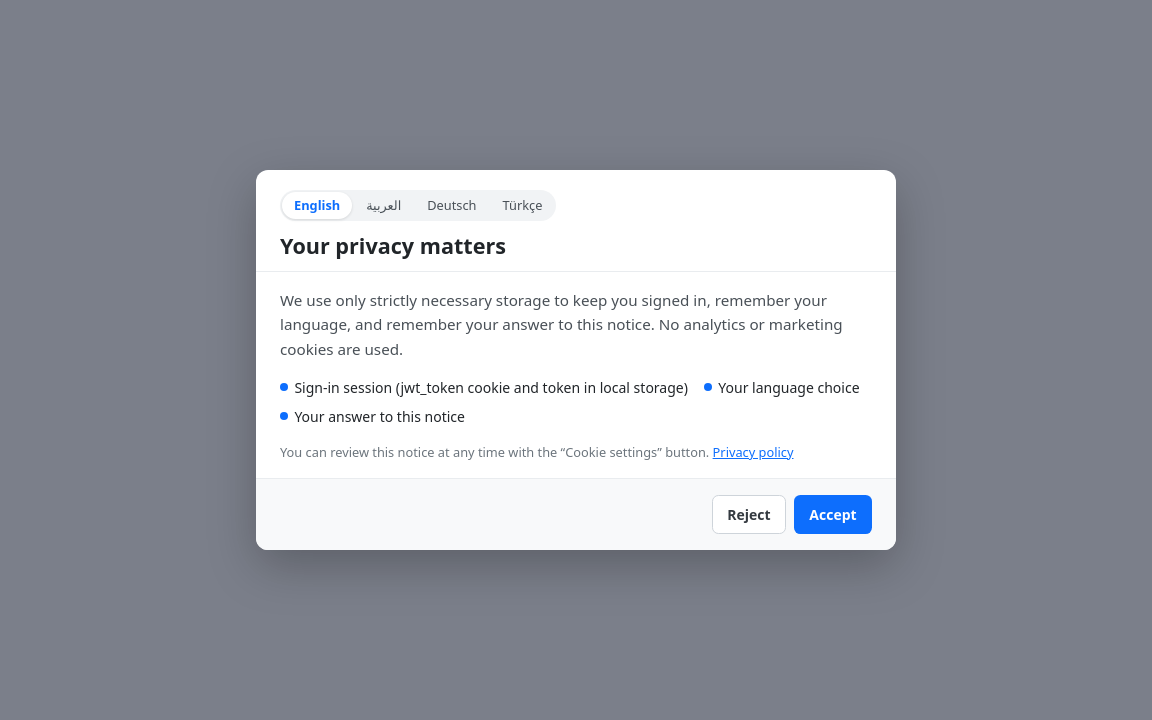
Test case: switches to Deutsch with an LTR layout
The width and height of the screenshot is (1152, 720).
Later steps or results of the test are not shown.
Click the button "Deutsch". click: (452, 206)
box: x1=415 y1=192 x2=488 y2=219
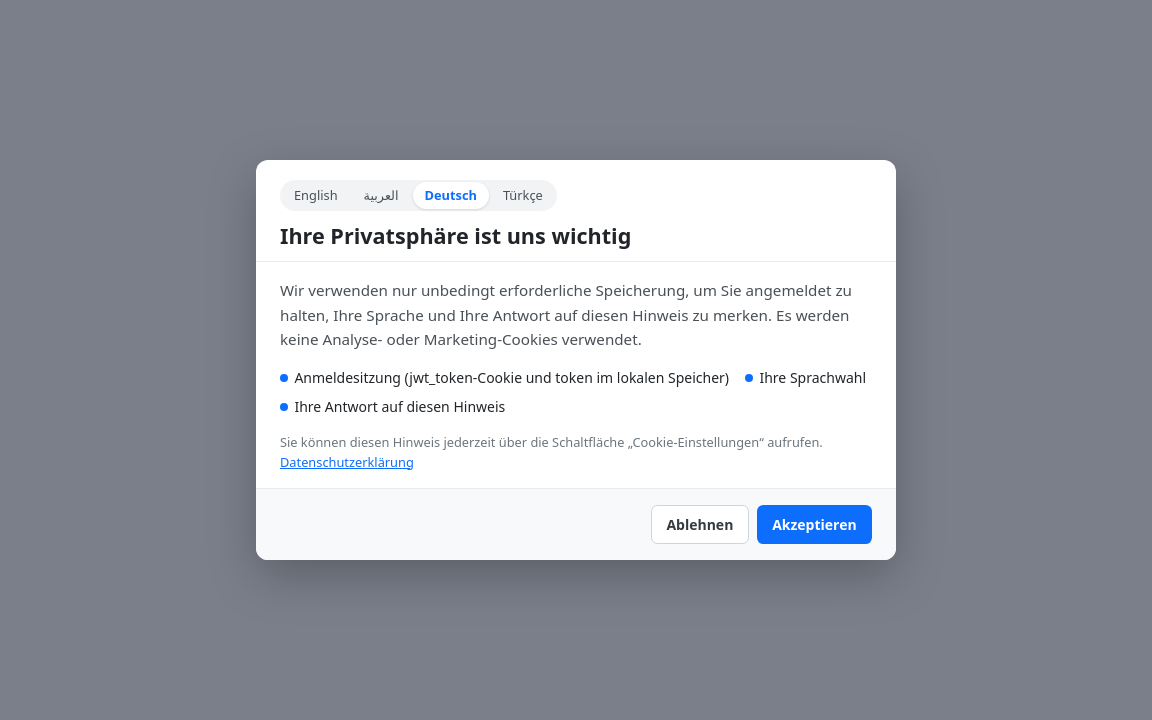
expect the heading "Ihre Privatsphäre ist uns wichtig" is shown: met, box x1=280 y1=222 x2=631 y2=250
